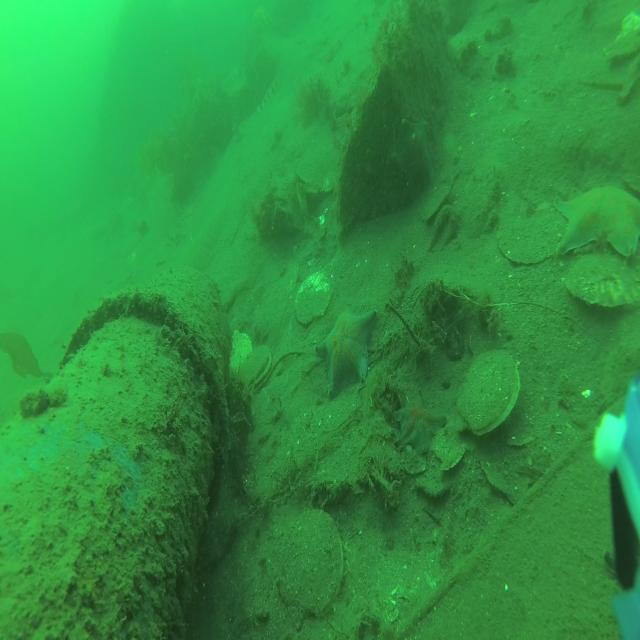scallop: (281, 510, 342, 619), (457, 353, 520, 437), (566, 251, 640, 308), (294, 274, 332, 325), (235, 345, 272, 396)
starfish: (556, 184, 640, 259), (317, 307, 376, 396), (394, 396, 447, 457)
